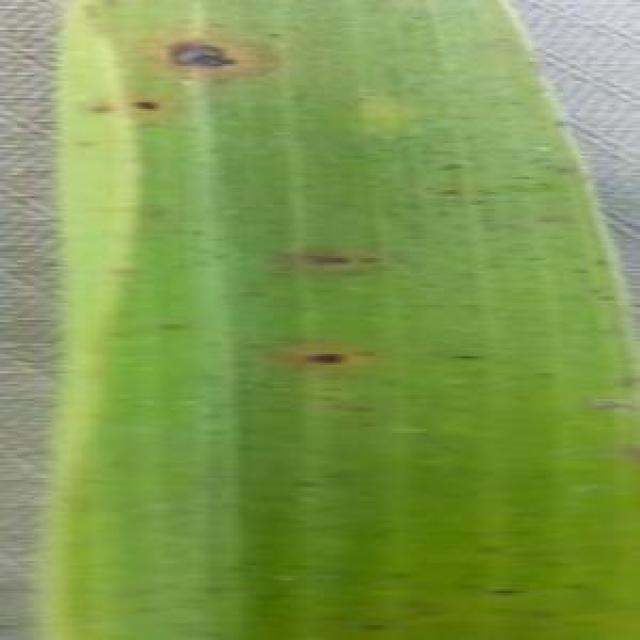brownspots: (158, 30, 254, 79), (298, 330, 374, 380), (276, 243, 374, 273), (121, 84, 172, 118)
